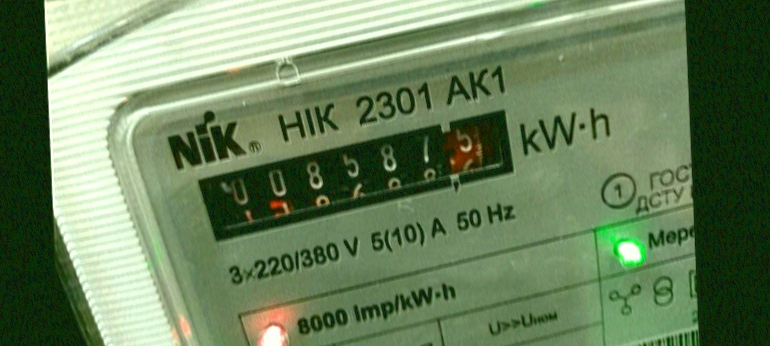0: (264, 164, 291, 199), (226, 173, 253, 206)
5: (339, 148, 363, 180), (452, 121, 475, 153)
6: (458, 156, 477, 174)
7: (413, 132, 437, 167)
8: (302, 158, 328, 191), (376, 140, 400, 174)
screen: (187, 108, 539, 244)
